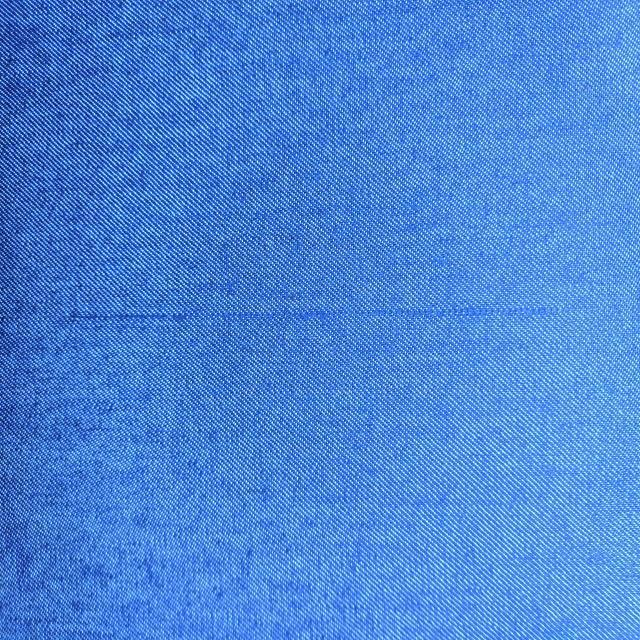Line: (0, 302, 561, 321)
